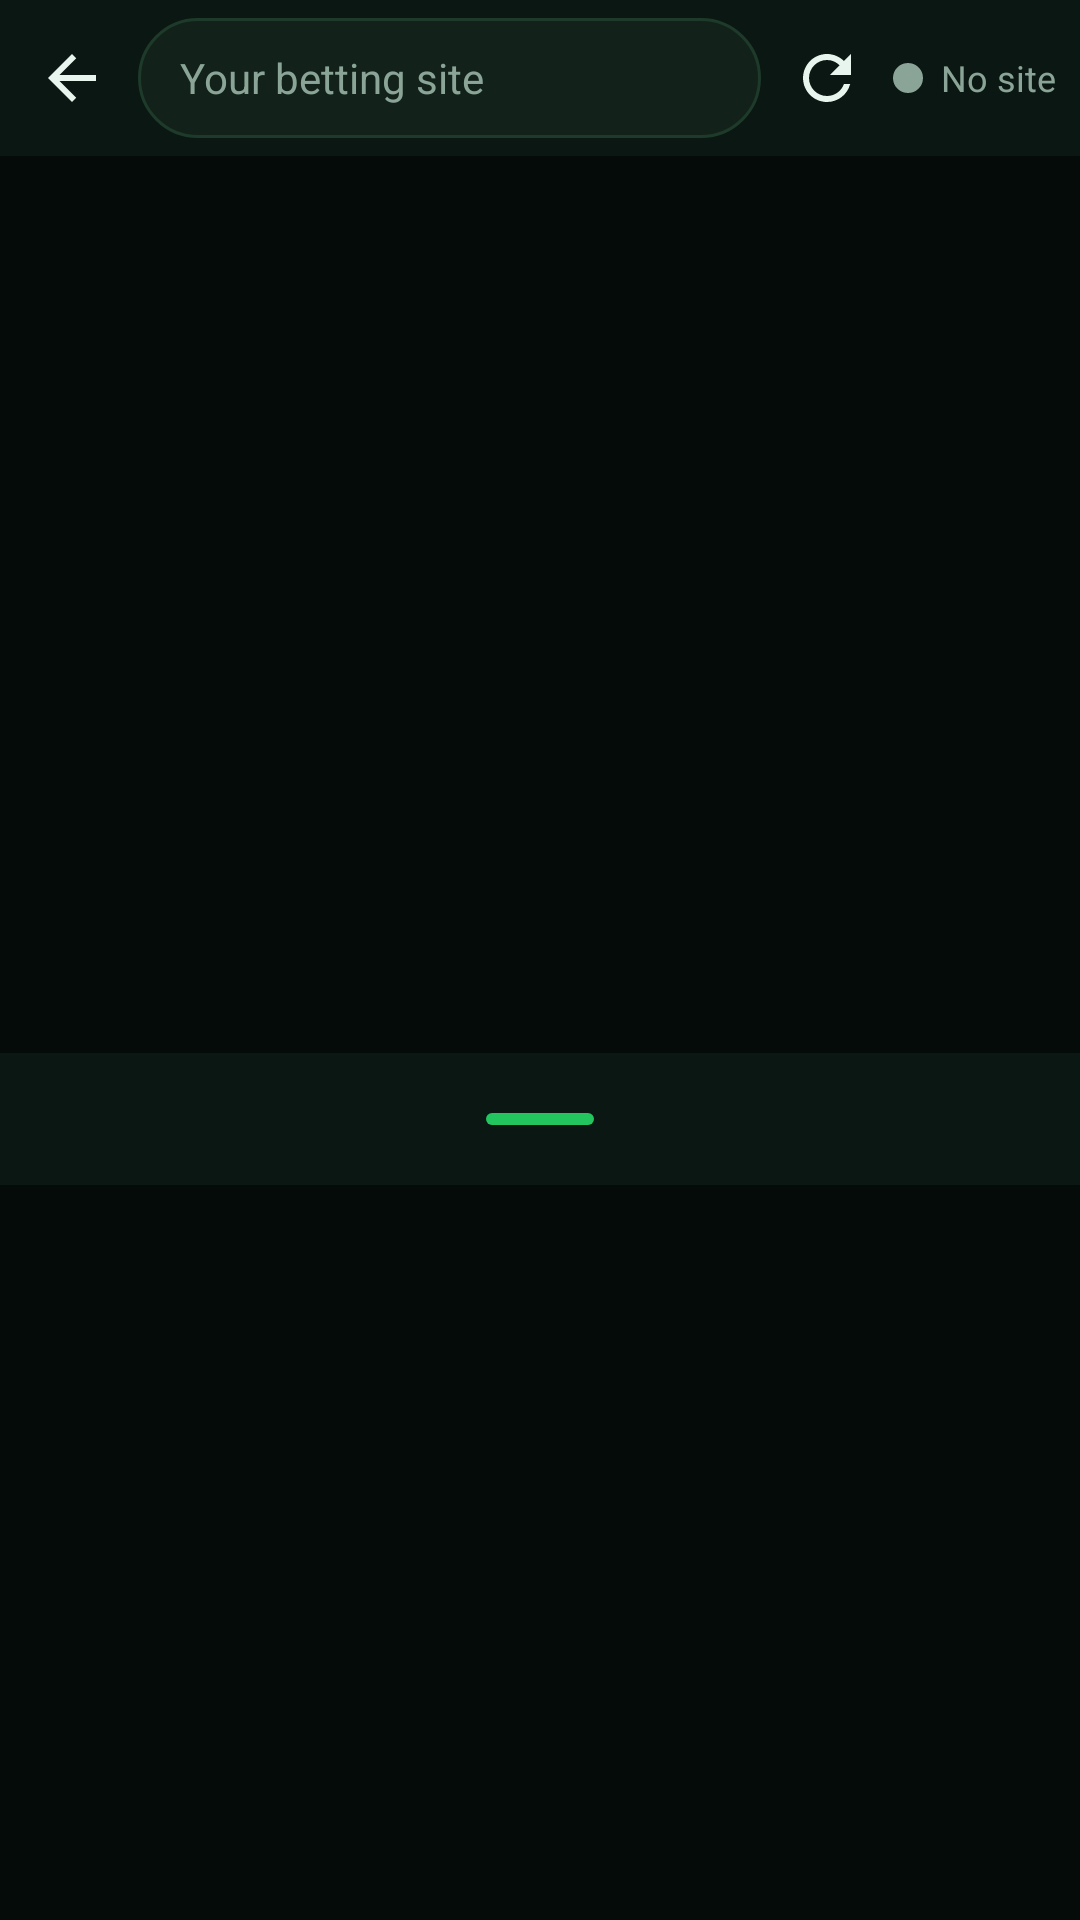

Where to tap for icons on this 1080px x 1920px app screen, as (x=x, y=y):
Back: (x=72, y=78)
Reload the betting site: (x=827, y=78)
